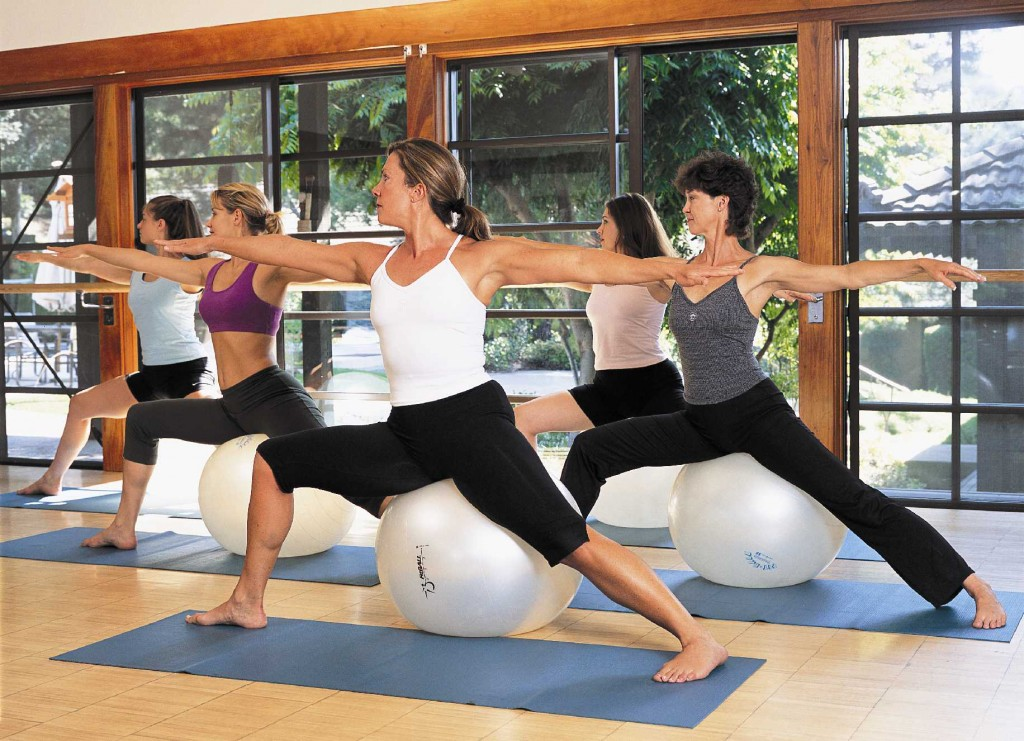yogaball: (375, 472, 586, 644), (671, 449, 857, 591), (191, 431, 362, 562)
